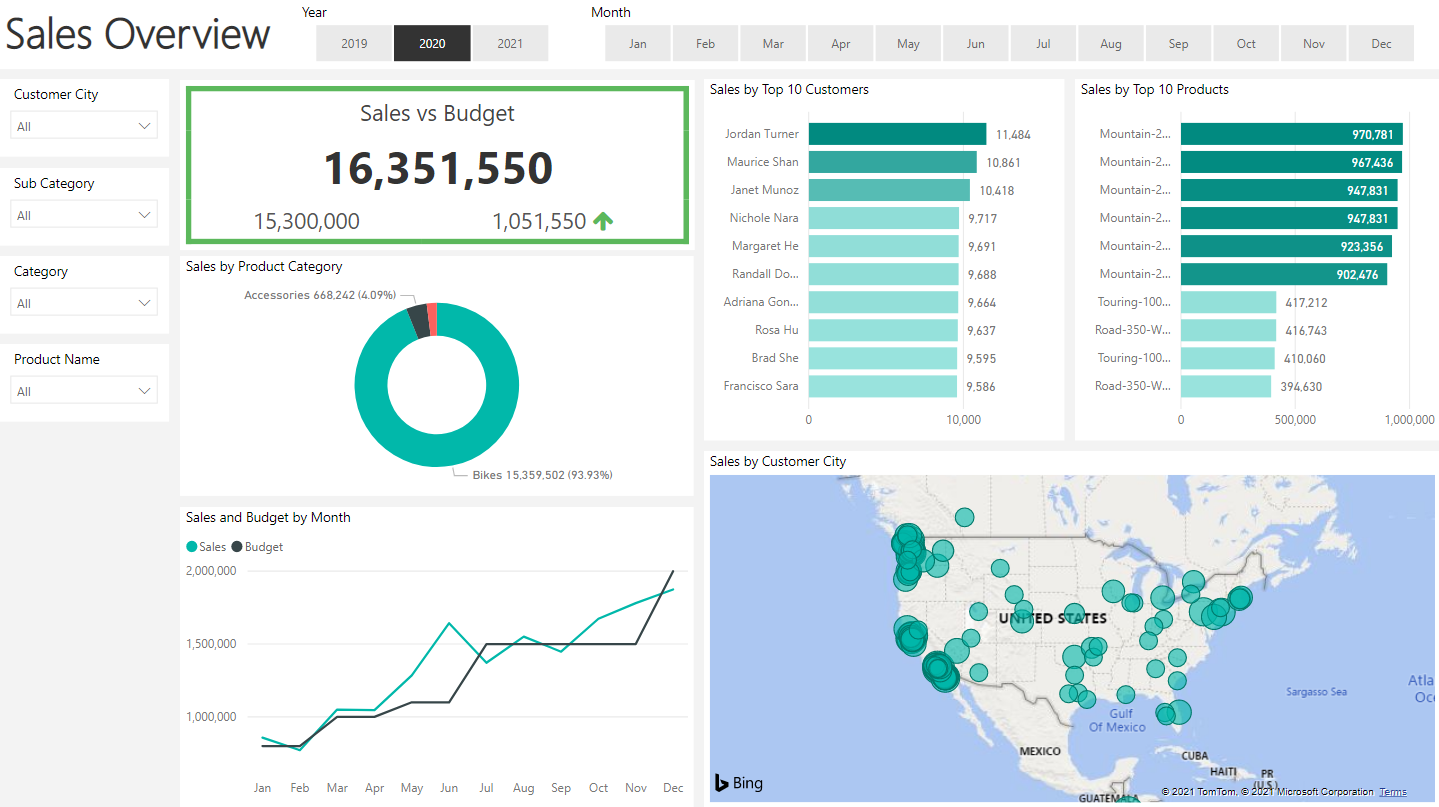

What the dashboard file says about the page in this screenshot:
{"tool":"powerbi","page":{"name":"Sales Overview","canvas":[1280,720],"ordinal":0},"visuals":[{"type":"textbox","box":[0,0,1280,64],"z":0},{"type":"slicer","fields":{"Values":["DIM_Calendar.Year"]},"box":[256,0,256,64],"z":1000},{"type":"slicer","fields":{"Values":["DIM_Calendar.MonthShort"]},"box":[512,0,768,64],"z":2000},{"type":"slicer","fields":{"Values":["DIM_Customers.Customer City"]},"box":[0,73,150.5,69.3],"z":3000},{"type":"slicer","fields":{"Values":["DIM_Products.Product Category"]},"box":[0,229.9,150.5,69.3],"z":4000},{"type":"slicer","fields":{"Values":["DIM_Products.Product Name"]},"box":[0,308.4,150.5,69.3],"z":5000},{"type":"slicer","fields":{"Values":["DIM_Products.Sub Category"]},"box":[0,151.4,150.5,69.3],"z":6000},{"type":"barChart","title":"Sales by Top 10 Products","fields":{"Category":["DIM_Products.Product Name"],"Y":["Analysis Metrics.Sales"]},"box":[955.2,73,324.8,321.1],"z":7000},{"type":"lineChart","fields":{"Category":["DIM_Calendar.MonthShort"],"Y":["Analysis Metrics.Sales","Analysis Metrics.Budget"]},"box":[160.7,452.8,456.3,267.2],"z":8000},{"type":"barChart","title":"Sales by Top 10 Customers","fields":{"Category":["DIM_Customers.Full Name"],"Y":["Analysis Metrics.Sales"]},"box":[625.9,73,320.2,321.1],"z":9000},{"type":"donutChart","fields":{"Y":["Analysis Metrics.Sales"],"Series":["DIM_Products.Product Category"]},"box":[160.6,229.9,456.2,213.5],"z":10000},{"type":"map","fields":{"Category":["DIM_Customers.Customer City"],"Size":["Analysis Metrics.Sales"]},"box":[625.9,403.3,654.1,316.6],"z":12000},{"type":"BBED0A4D4D8D44CE93CF2DAFADEE466C","fields":{"actual":["Analysis Metrics.Sales"],"target2":["Analysis Metrics.Sales / Budget"],"target1":["Analysis Metrics.Budget"]},"box":[160.5,73.4,456.6,151.3],"z":13001}]}

Visuals, with their boxes in screenshot pixels (x1, y1, x2, y2), scaled from the page's 1280x720 canvas onto the 1439x807 screenshot:
textbox: [x1=0, y1=0, x2=1438, y2=72]
slicer - DIM_Calendar.Year: [x1=288, y1=0, x2=576, y2=72]
slicer - DIM_Calendar.MonthShort: [x1=576, y1=0, x2=1438, y2=72]
slicer - DIM_Customers.Customer City: [x1=0, y1=82, x2=169, y2=159]
slicer - DIM_Products.Product Category: [x1=0, y1=258, x2=169, y2=335]
slicer - DIM_Products.Product Name: [x1=0, y1=346, x2=169, y2=423]
slicer - DIM_Products.Sub Category: [x1=0, y1=170, x2=169, y2=247]
"Sales by Top 10 Products" barChart: [x1=1074, y1=82, x2=1438, y2=442]
lineChart - DIM_Calendar.MonthShort x Analysis Metrics.Sales: [x1=181, y1=508, x2=694, y2=806]
"Sales by Top 10 Customers" barChart: [x1=704, y1=82, x2=1064, y2=442]
donutChart - Analysis Metrics.Sales x DIM_Products.Product Category: [x1=181, y1=258, x2=693, y2=497]
map - DIM_Customers.Customer City x Analysis Metrics.Sales: [x1=704, y1=452, x2=1438, y2=806]
BBED0A4D4D8D44CE93CF2DAFADEE466C - Analysis Metrics.Sales x Analysis Metrics.Sales / Budget: [x1=180, y1=82, x2=694, y2=252]
